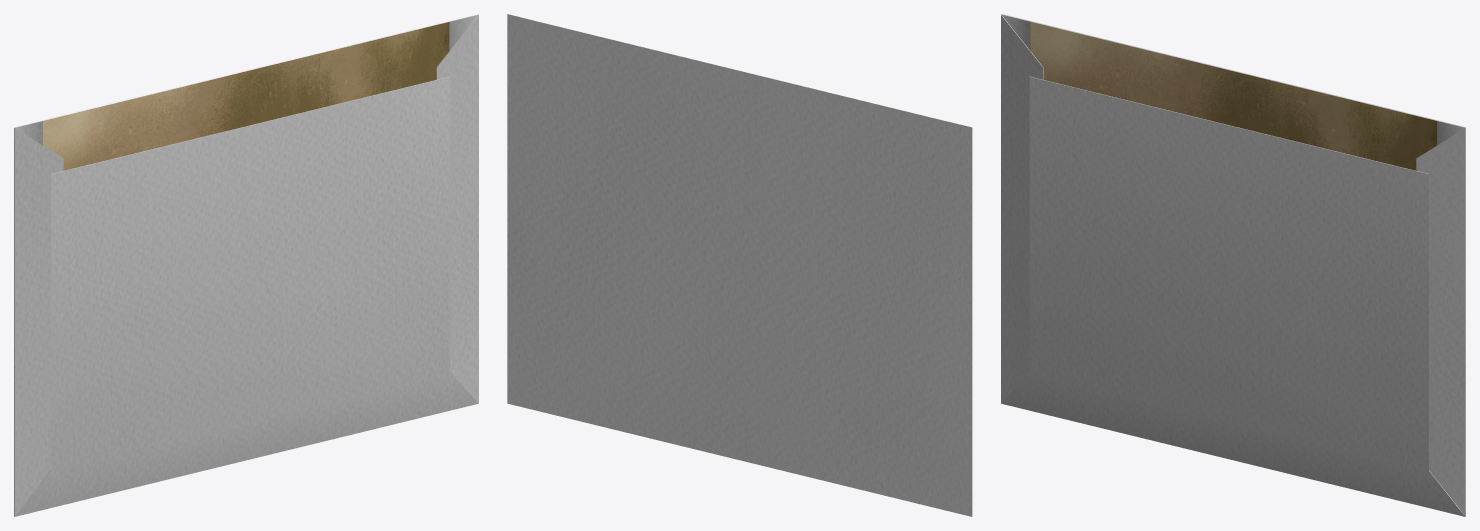
Rendered from Envelope-C5XY0ZbY.glb.
3 views of the same model, side by side, from view 1: azimuth 30°, elevation 25°; view 2: azimuth 150°, elevation 25°; view 3: azimuth 330°, elevation 25° (orthographic).
Parts seen in each view (by area): view 1: grid1; view 2: grid1; view 3: grid1.
Boxes of the visible parts, <box> form: grid1: <box>14,14,478,516</box>; grid1: <box>507,14,972,516</box>; grid1: <box>1001,14,1465,516</box>.
Size of the model in its own units: 1 by 0.8012 by 0.018.
Materials: 5 (5 with a texture image).
